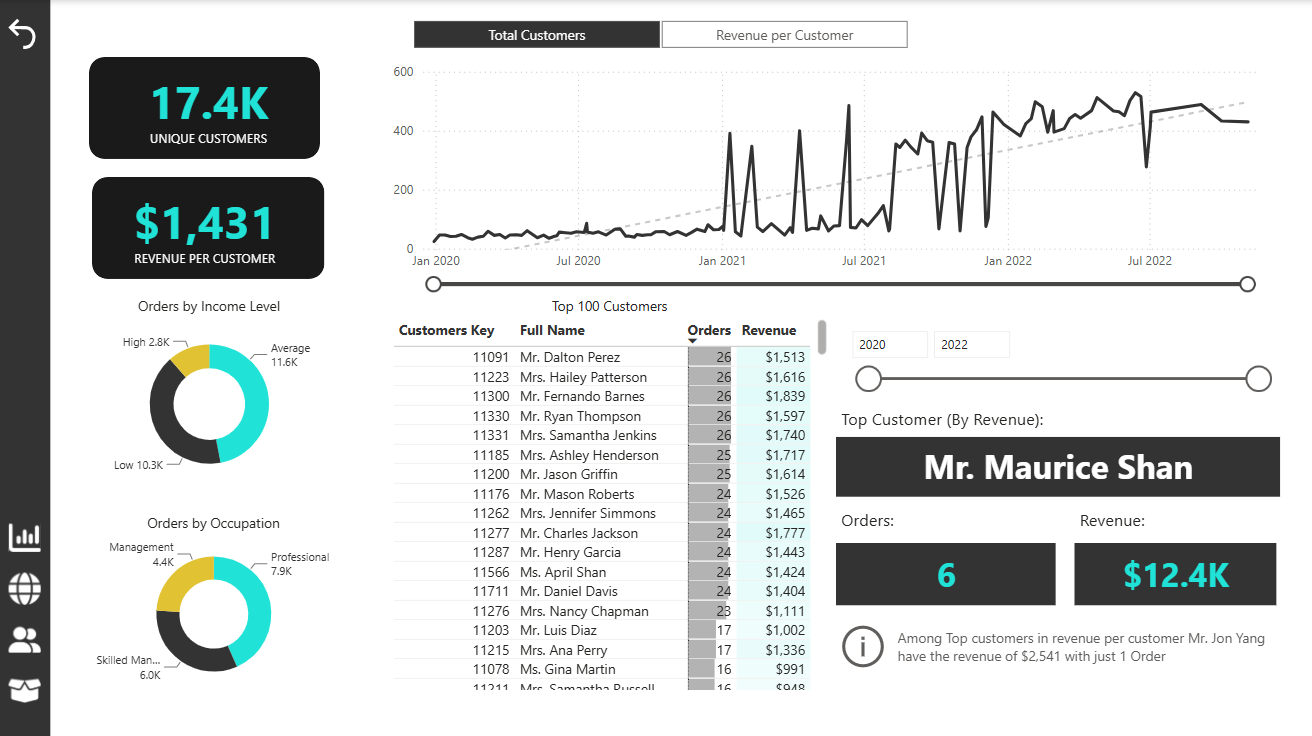

Layout of this report page (visuals, bound fields, positions):
{"tool":"powerbi","page":{"name":"Customer Detail","canvas":[1280,720],"ordinal":3},"visuals":[{"type":"shape","box":[0,0,50,720.6],"z":0},{"type":"actionButton","box":[0,504.2,49.7,39.5],"z":0,"group":"g1"},{"type":"shape","box":[87.7,55.5,225.1,99.4],"z":1000},{"type":"actionButton","box":[0,603.6,49.7,39.5],"z":1000,"group":"g1"},{"type":"shape","box":[90.6,172.5,226.5,99.4],"z":2000},{"type":"actionButton","box":[0,653.3,49.7,39.5],"z":2000,"group":"g1"},{"type":"card","fields":{"Values":["Measure Table.Total Customers"]},"box":[74.5,55.5,258.7,99.4],"z":3000},{"type":"actionButton","box":[0,553.9,49.7,39.5],"z":3000,"group":"g1"},{"type":"card","fields":{"Values":["Measure Table.Average Revenue per Customer"]},"box":[70.2,172.5,260.1,99.4],"z":4000},{"type":"lineChart","fields":{"Category":["Calendar Lookup.Date Hierarchy.Start Of Year","Calendar Lookup.Date Hierarchy.Start of Month","Calendar Lookup.Date Hierarchy.Start of Week","Calendar Lookup.Date Hierarchy.Date"],"Y":["Measure Table.Total Customers"]},"box":[378.5,55.5,865.2,232.4],"z":5000},{"type":"donutChart","title":"Orders by Income Level","fields":{"Category":["Customer Lookup.Income Level"],"Y":["Measure Table.Total Orders"]},"box":[96.5,287.9,216.3,192.9],"z":6000},{"type":"donutChart","title":"Orders by Occupation","fields":{"Category":["Customer Lookup.Occupation"],"Y":["Measure Table.Total Orders"]},"box":[87.7,499.8,242.6,178.3],"z":7000},{"type":"tableEx","title":"Top 100 Customers","fields":{"Values":["Customer Lookup.CustomerKey","Customer Lookup.Customer Full Name (CC)","Measure Table.Total Orders","Measure Table.Total Revenue"]},"box":[378.4,288.5,432.7,389.3],"z":8000},{"type":"card","fields":{"Values":["Customer Lookup.Full Name (Customer Detail)"]},"box":[815,425.1,432.7,58.9],"z":9000},{"type":"textbox","box":[815,391,432.7,34.1],"z":10000},{"type":"textbox","box":[815,489.2,170.6,34.1],"z":11000},{"type":"card","fields":{"Values":["Measure Table.Total Orders (Customer Detail)"]},"box":[815,529,214,60.5],"z":12000},{"type":"textbox","box":[1047.7,489.2,197,34.1],"z":13000},{"type":"card","fields":{"Values":["Measure Table.Total Revenue (Customer Detail)"]},"box":[1047.7,529,197,60.5],"z":14000},{"type":"slicer","fields":{"Values":["Calendar Lookup.Year"]},"box":[818.4,312.8,429.7,78.9],"z":15000},{"type":"actionButton","box":[815.5,603.6,428.2,52.6],"z":16000},{"type":"actionButton","box":[2.9,13.2,48.2,39.5],"z":17000},{"type":"group","id":"g1","title":"Nav Button","box":[0,504.2,49.7,188.5],"z":18000},{"type":"slicer","fields":{"Values":["Customer Mertric Selection.Customer Mertric Selection"]},"box":[378.5,13.2,530.5,39.5],"z":18001}]}

Visuals, with their boxes on the page's 1280x720 design canvas (x1, y1, x2, y2). These are canvas units, not pixel positions in the 1312x736 screenshot, which may show the page scaled, cropped or inside an application window:
shape: bbox=[0, 0, 50, 721]
actionButton: bbox=[0, 504, 50, 544]
shape: bbox=[88, 56, 313, 155]
actionButton: bbox=[0, 604, 50, 643]
shape: bbox=[91, 172, 317, 272]
actionButton: bbox=[0, 653, 50, 693]
card - Measure Table.Total Customers: bbox=[74, 56, 333, 155]
actionButton: bbox=[0, 554, 50, 593]
card - Measure Table.Average Revenue per Customer: bbox=[70, 172, 330, 272]
lineChart - Calendar Lookup.Date Hierarchy.Start Of Year x Calendar Lookup.Date Hierarchy.Start of Month: bbox=[378, 56, 1244, 288]
"Orders by Income Level" donutChart: bbox=[96, 288, 313, 481]
"Orders by Occupation" donutChart: bbox=[88, 500, 330, 678]
"Top 100 Customers" tableEx: bbox=[378, 288, 811, 678]
card - Customer Lookup.Full Name (Customer Detail): bbox=[815, 425, 1248, 484]
textbox: bbox=[815, 391, 1248, 425]
textbox: bbox=[815, 489, 986, 523]
card - Measure Table.Total Orders (Customer Detail): bbox=[815, 529, 1029, 590]
textbox: bbox=[1048, 489, 1245, 523]
card - Measure Table.Total Revenue (Customer Detail): bbox=[1048, 529, 1245, 590]
slicer - Calendar Lookup.Year: bbox=[818, 313, 1248, 392]
actionButton: bbox=[816, 604, 1244, 656]
actionButton: bbox=[3, 13, 51, 53]
"Nav Button" group: bbox=[0, 504, 50, 693]
slicer - Customer Mertric Selection.Customer Mertric Selection: bbox=[378, 13, 909, 53]
